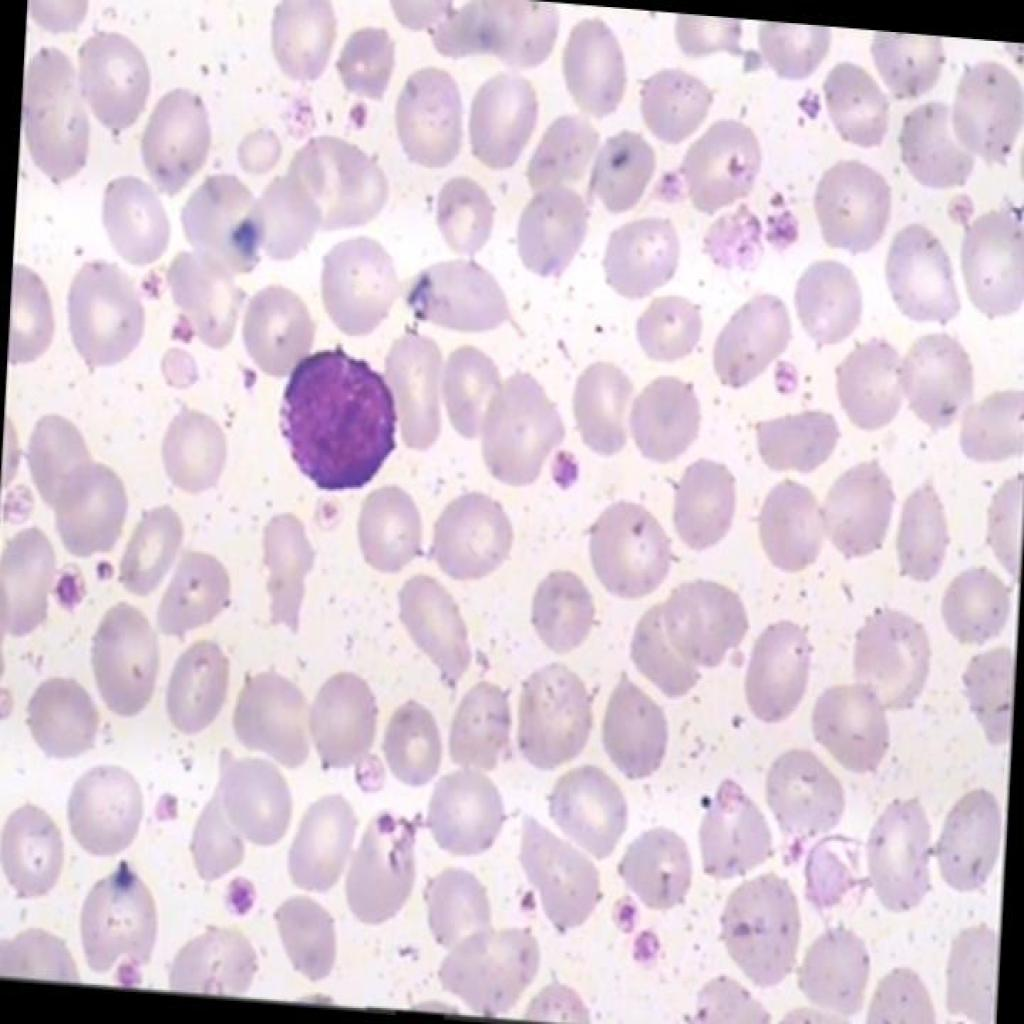Basofil: (268, 332, 408, 506)
Platelet: (41, 551, 88, 622), (212, 873, 262, 931), (764, 352, 812, 411), (630, 921, 671, 983), (234, 348, 274, 406), (544, 434, 582, 494), (791, 71, 826, 132), (142, 778, 178, 836), (161, 306, 202, 356), (107, 944, 148, 992), (765, 202, 802, 250), (942, 185, 976, 235), (131, 254, 165, 295), (341, 89, 374, 131), (606, 884, 638, 926)
